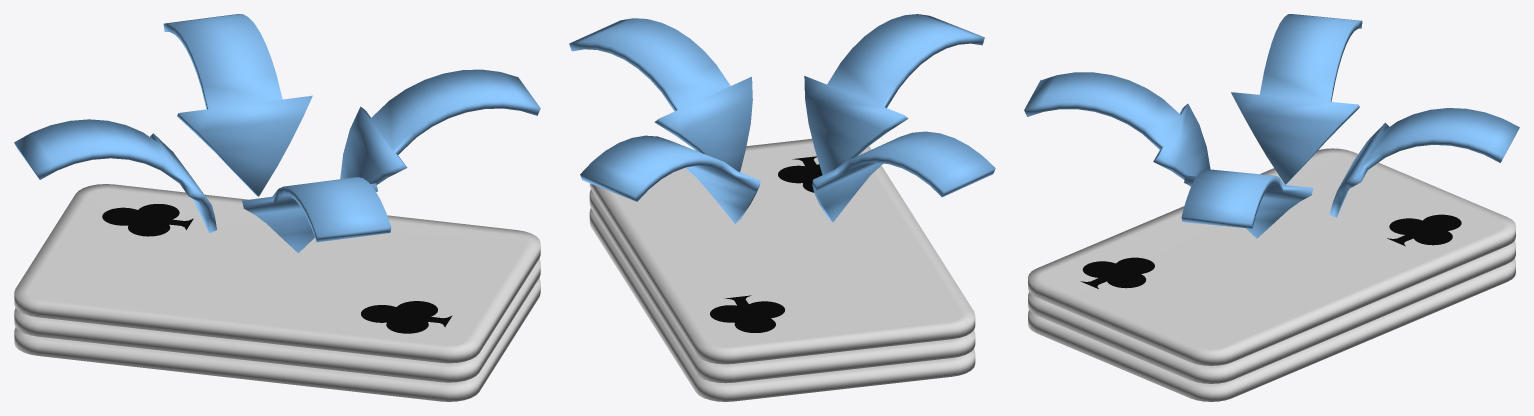
Rendered from card_return_icon.glb.
3 renders of one model, left to right at view 1: azimuth 30°, elevation 25°; view 2: azimuth 150°, elevation 25°; view 3: azimuth 270°, elevation 25°, orthographic. The views are drawn at different scales.
Parts seen in each view (by area): view 1: Cards; view 2: Cards; view 3: Cards.
Boxes of the visible parts, x1,y1,x2,y2 form: Cards: (14, 14, 540, 401); Cards: (569, 14, 995, 401); Cards: (1024, 14, 1519, 401).
Bounding box in the file's own units: 0.0848 × 0.0365 × 0.0848.
